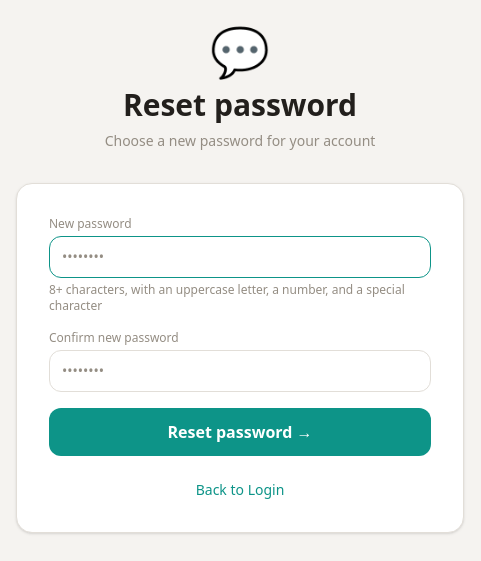
Test: ResetPassword page › shows a validation error when the passwords don't match
Type "Str0ng!Pass" into the password field with placeholder "••••••••" at (240, 257), box [49,236,431,278]
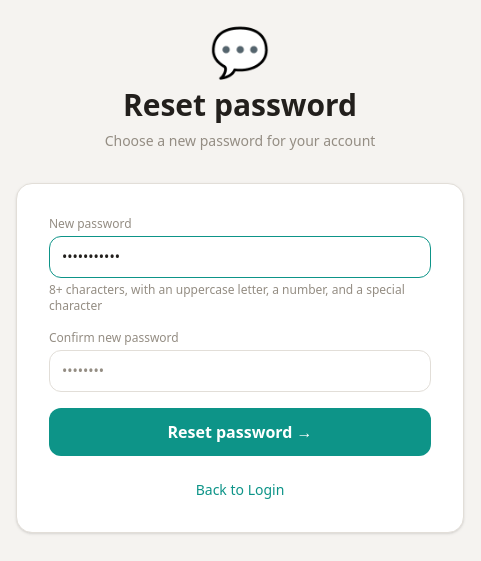
Type "Different1!" into the password field with placeholder "••••••••" at (240, 371), box [49,350,431,392]
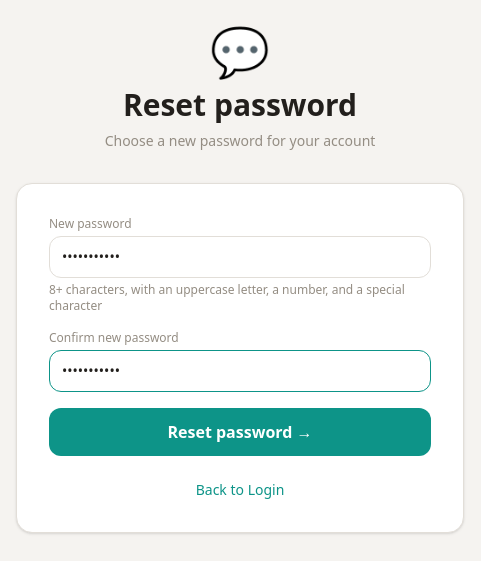
Click the button "Reset password →" at (240, 432), box [49,408,431,456]
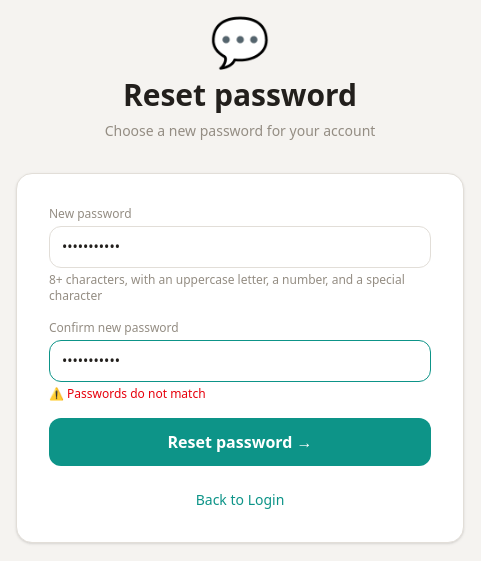
Result: the text "⚠️ Passwords do not match" is shown at [49,385,206,402]
